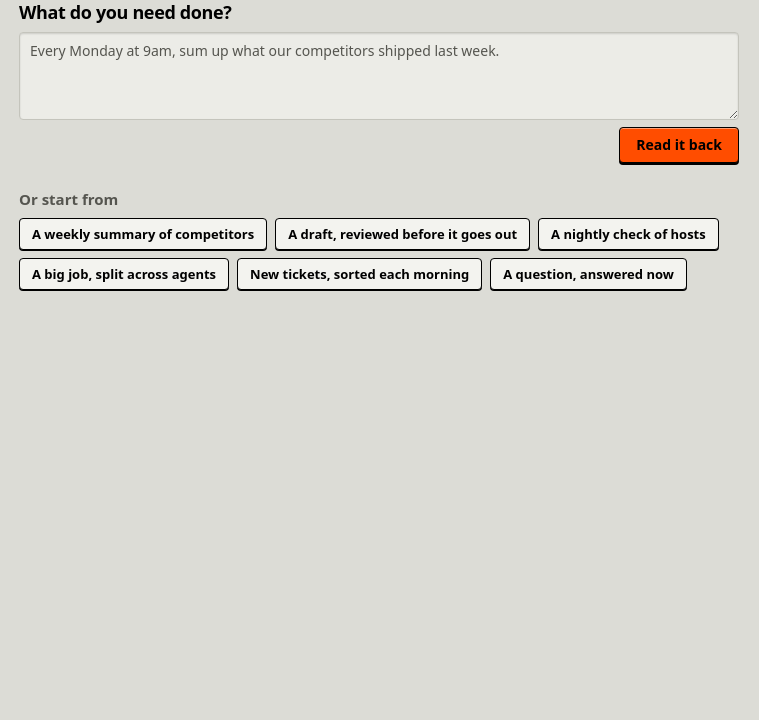
Door › puts the cost last, beside Start, and says the next starts apart
Step 1. Click the button "A weekly summary of competitors" → x=143, y=234, box [19,218,267,250]
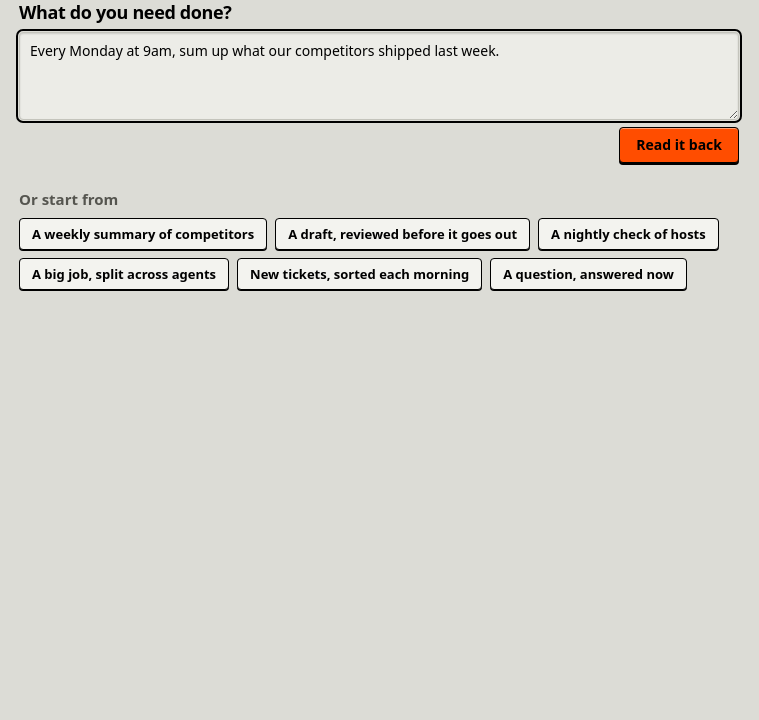
Step 2. Click the button "Read it back" → x=679, y=145, box [619,127,739,163]
(page scrolled)
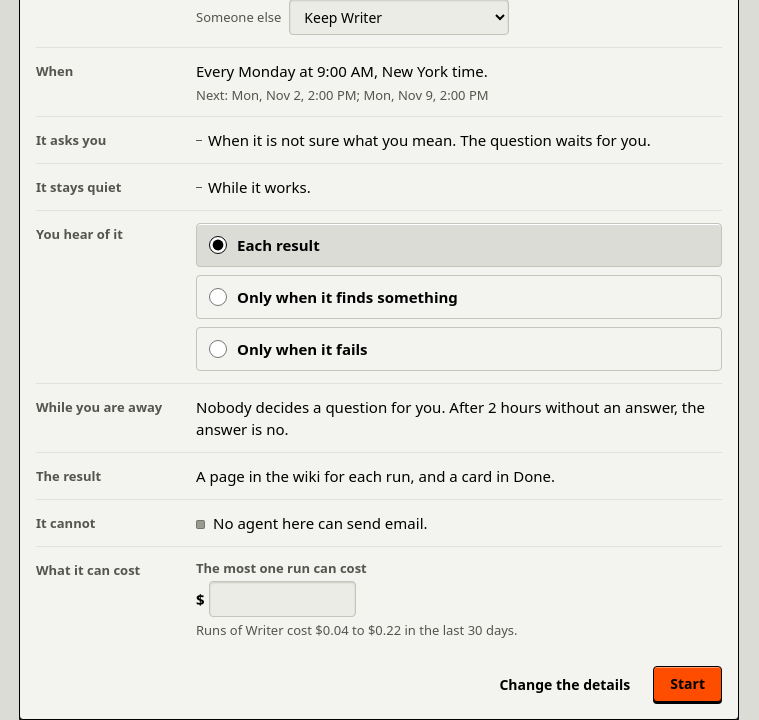
Result: the text "Nobody decides a question for you. After 2 hours without an answer, the answer is no." is shown at [196,397,705,439]
